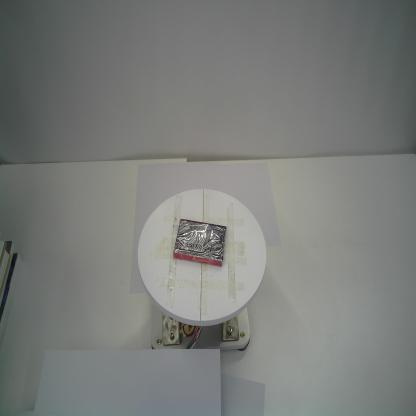Gum: (173, 218, 226, 267)
